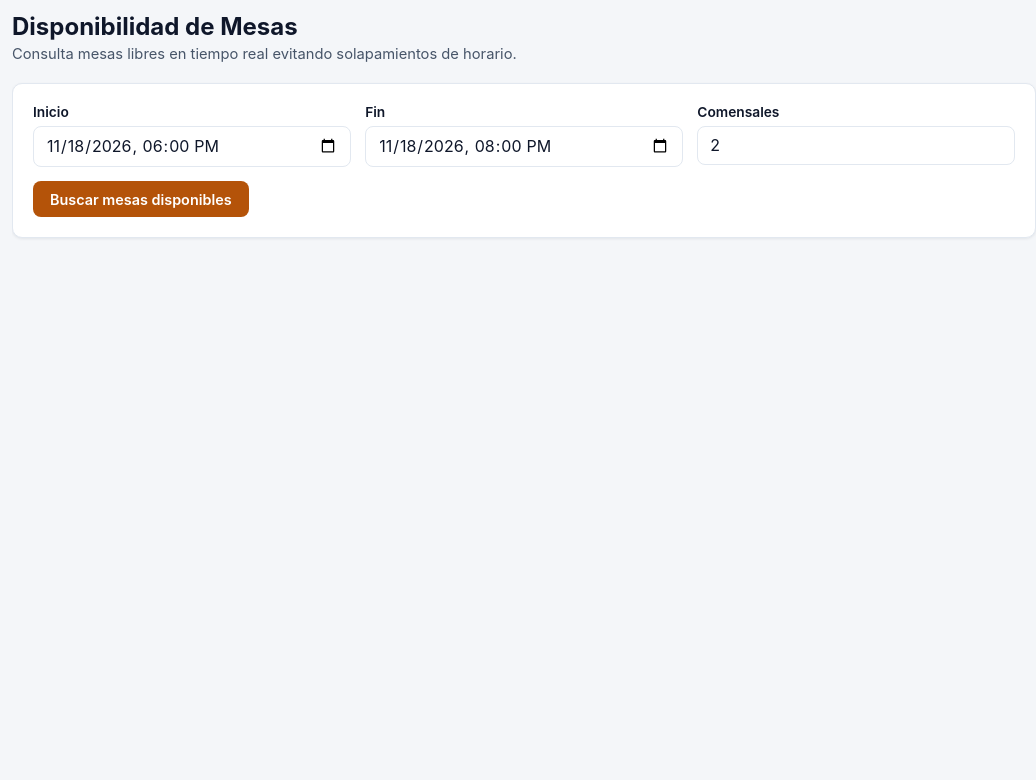
Flujos de disponibilidad, reservas y pedidos › consulta mesas disponibles en AvailabilityPage
Click the button "Buscar mesas disponibles".
click(141, 199)  # box [33,181,249,217]
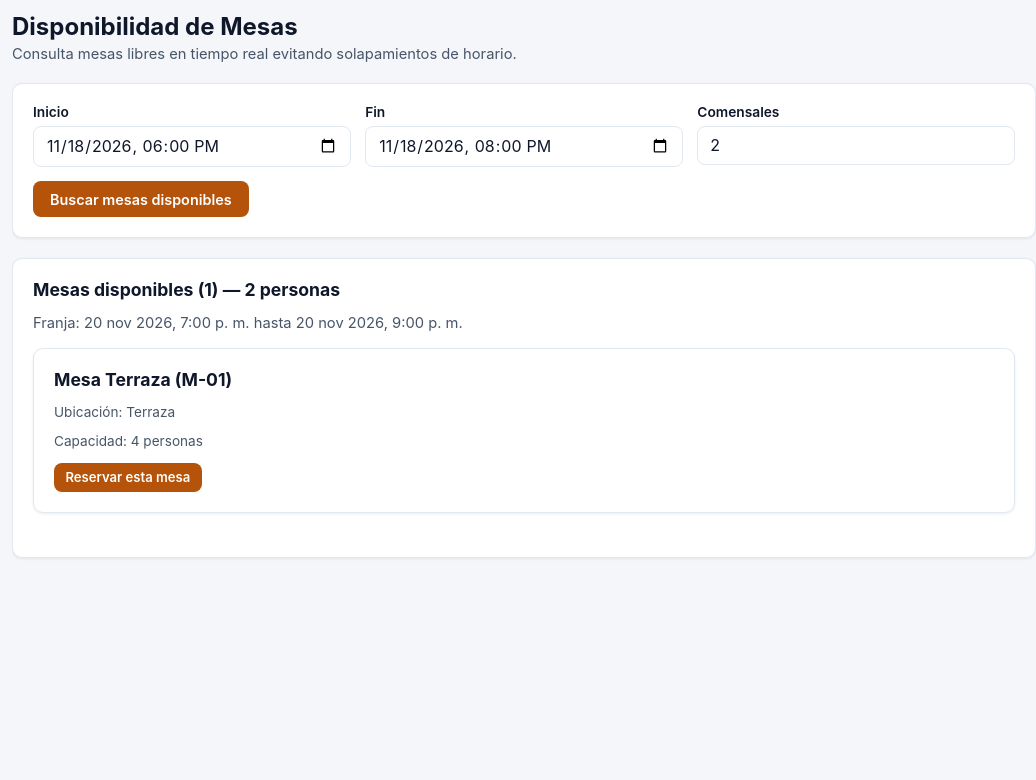
Expected: the heading "Mesa Terraza (M-01)" is shown, [54,369,232,390]
